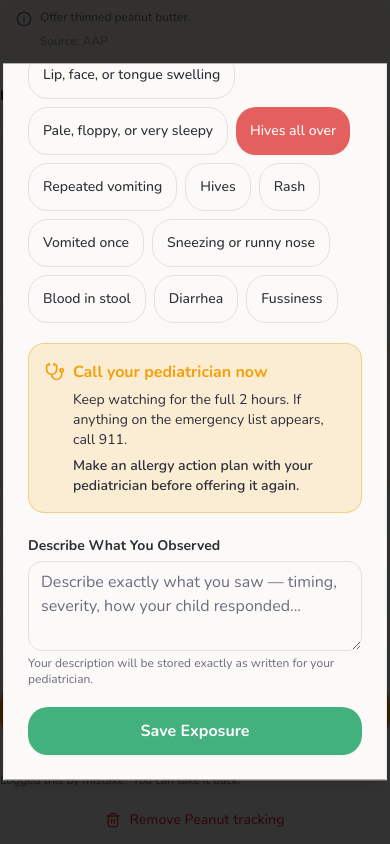
Test case: AllergenTracker reaction dialog › retries a half-saved reaction against the orphaned exposure instead of inserting another
Earlier steps of the test are not shown.
(page scrolled)
Click the button "Save Exposure": (195, 731) [28, 707, 362, 755]
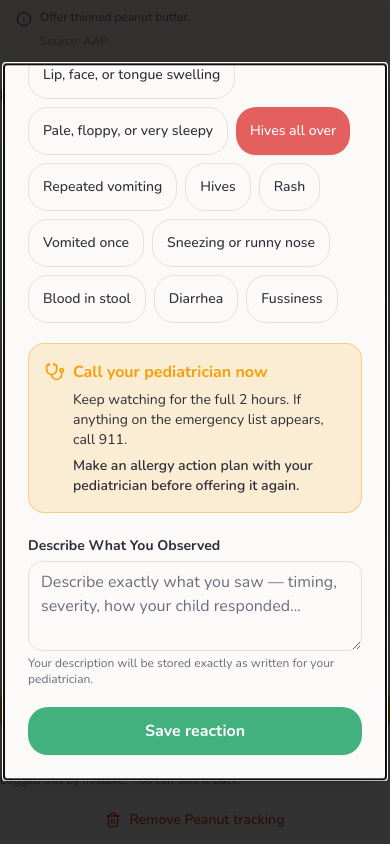
Click the button "Save reaction": (195, 731) [28, 707, 362, 755]
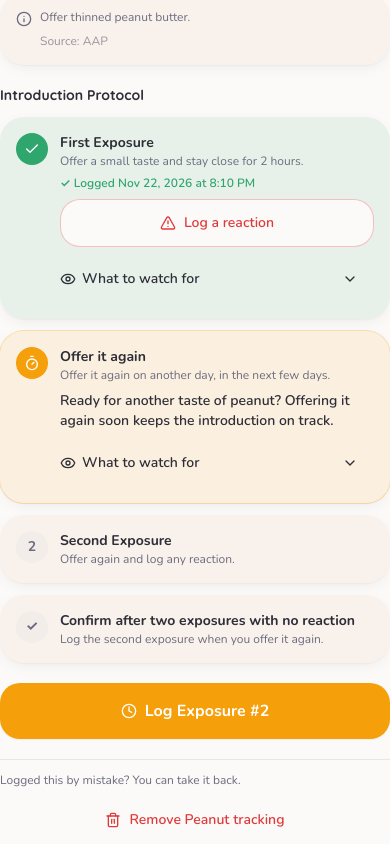
Check: the dialog is gone
